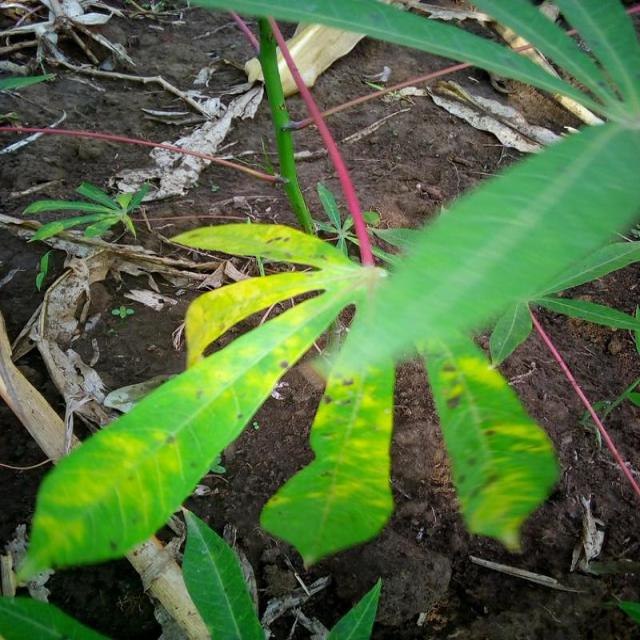cassava leaf: (14, 1, 638, 593), (14, 219, 390, 586)
